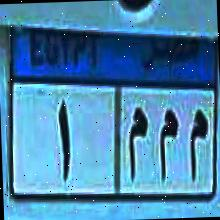1: (56, 98, 70, 180)
meem: (182, 105, 212, 182), (124, 105, 150, 183), (154, 110, 182, 180)
